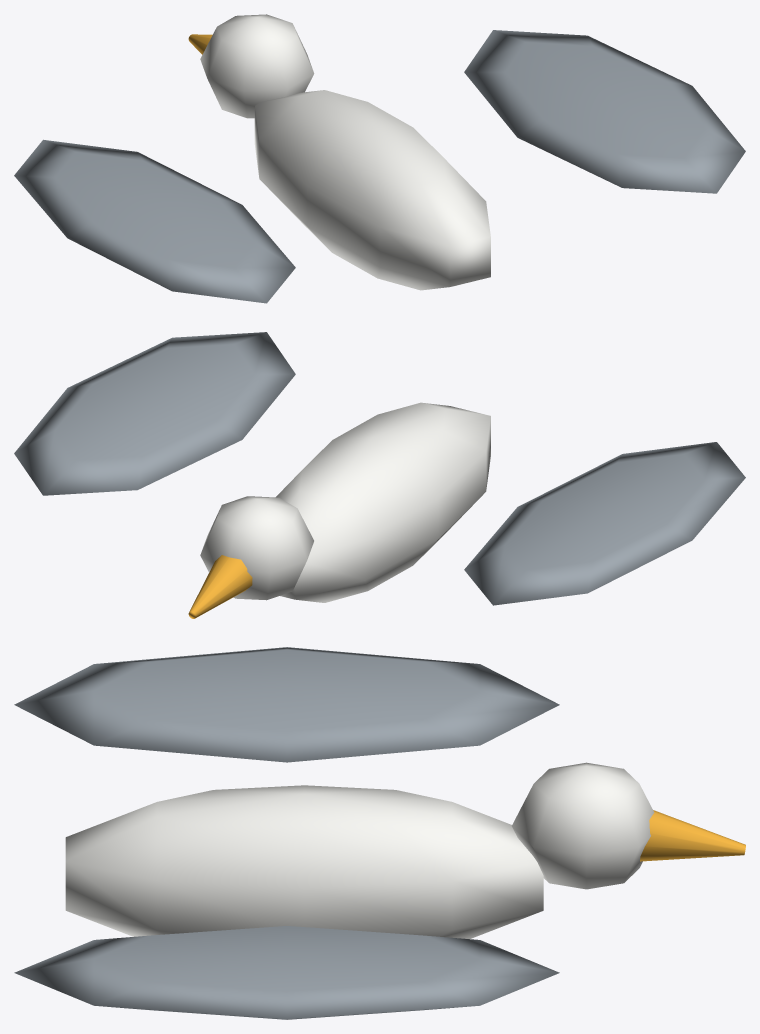
Rendered from gull.glb.
3 renders of one model, top to bottom at view 1: azimuth 30°, elevation 25°; view 2: azimuth 150°, elevation 25°; view 3: azimuth 270°, elevation 25°, orthographic. The views are drawn at different scales.
Bounding box in the file's own units: 1 × 0.235 × 0.831.
